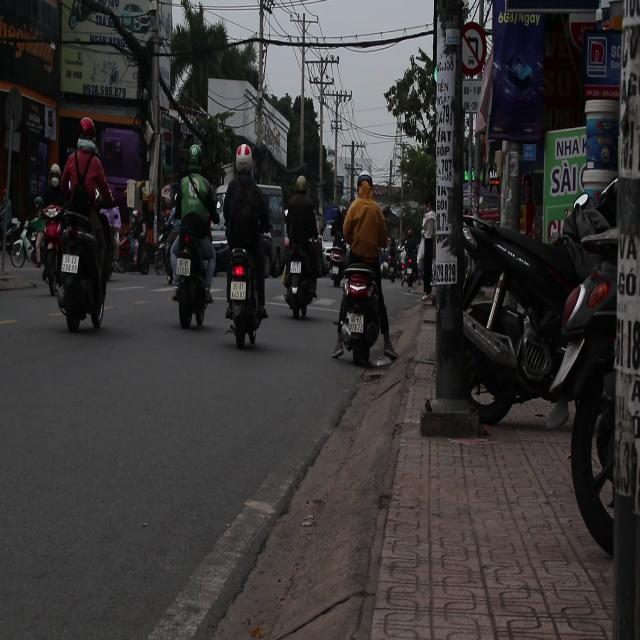car: (257, 179, 289, 277)
motorbike: (452, 212, 614, 427), (57, 219, 113, 342), (340, 270, 382, 385), (224, 243, 266, 349), (173, 248, 216, 330), (34, 198, 64, 286), (284, 250, 319, 322), (117, 217, 152, 276), (153, 220, 180, 285), (323, 235, 346, 288)
